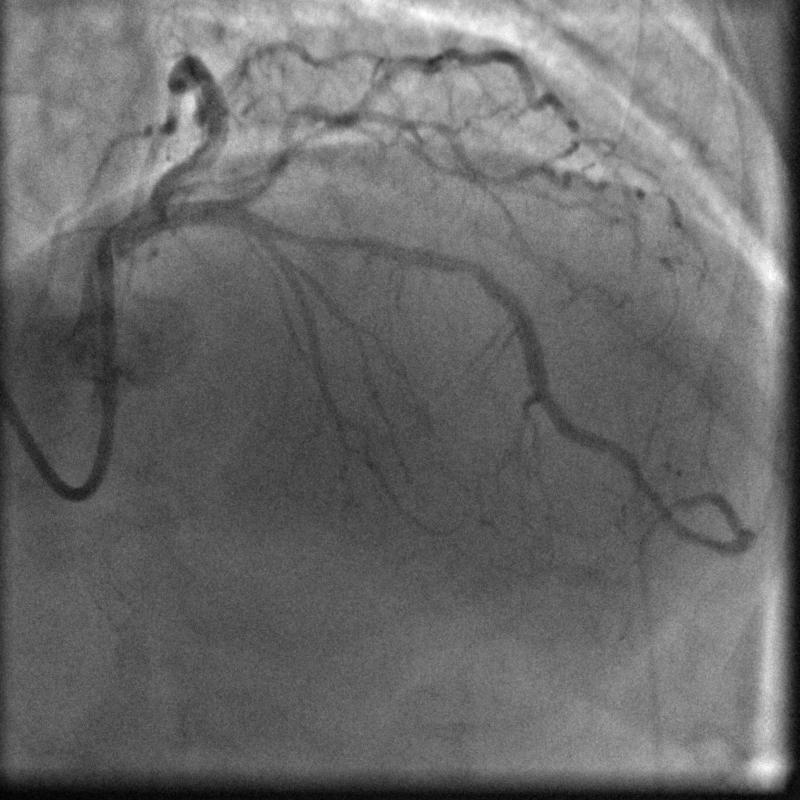Stenosis: (282, 216, 354, 254)
